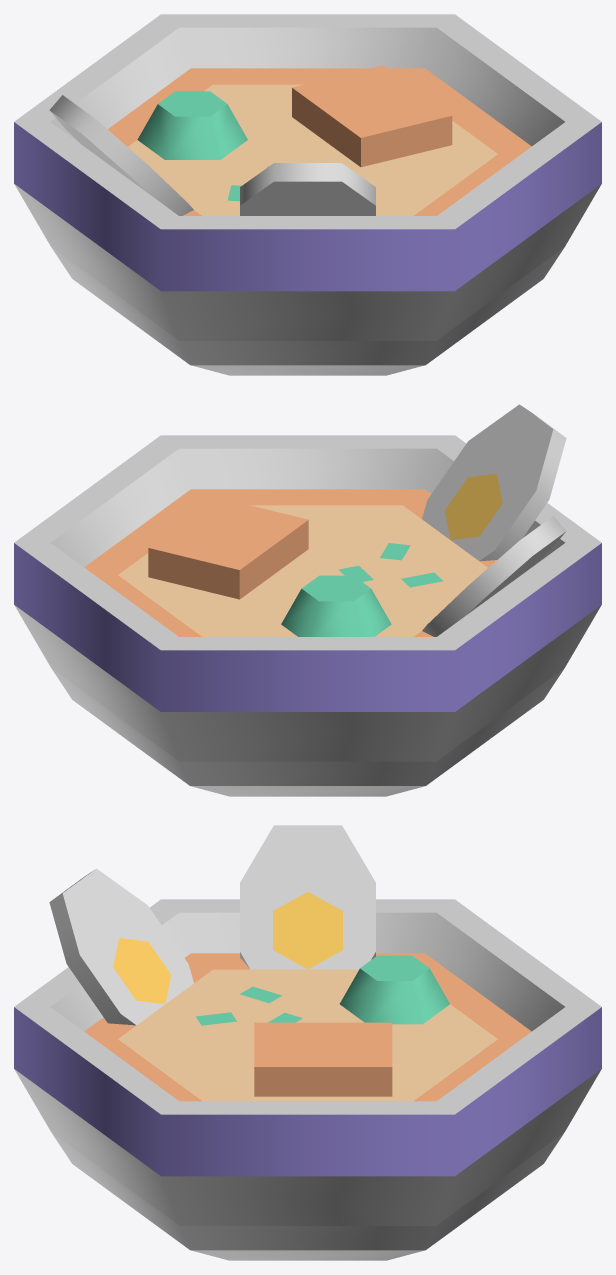
The model's file is Bowl_Broth.glb.
3 renders of one model, top to bottom at view 1: azimuth 30°, elevation 25°; view 2: azimuth 150°, elevation 25°; view 3: azimuth 270°, elevation 25°, orthographic.
Parts seen in each view (by area): view 1: bowlBroth; view 2: bowlBroth; view 3: bowlBroth.
Boxes of the visible parts, x1,y1,x2,y2 form: bowlBroth: (14,14,601,375); bowlBroth: (14,404,601,796); bowlBroth: (14,825,601,1260).
Size of the model in its own units: 0.5262 by 0.2903 by 0.5798.
